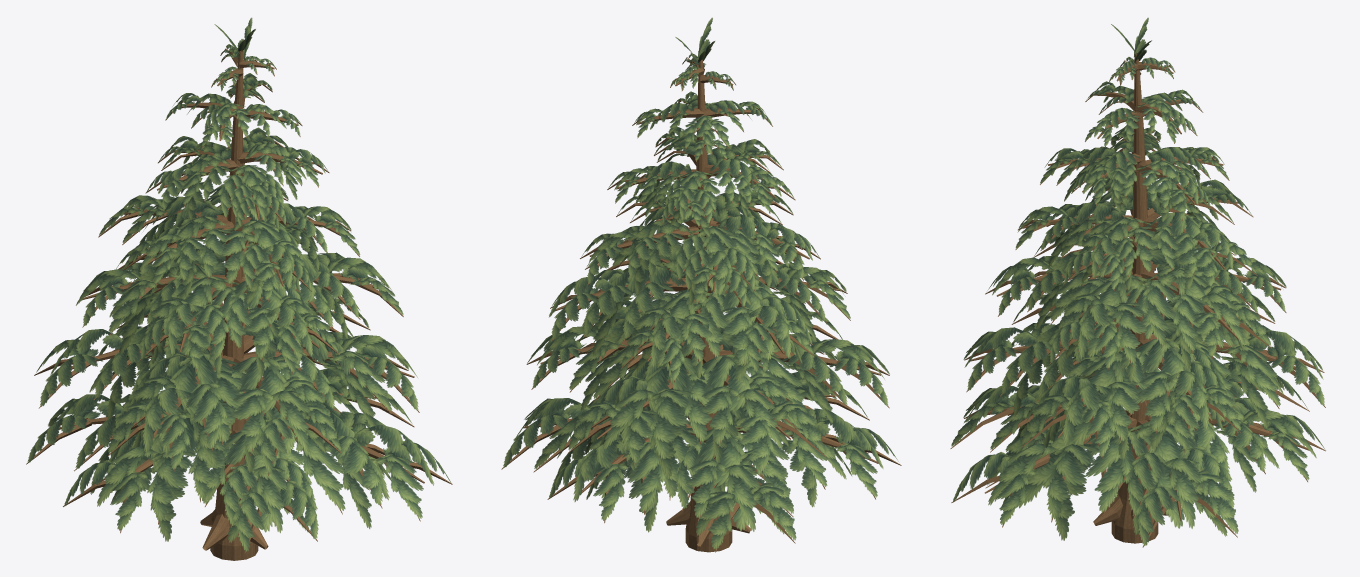
Rendered from fir_soft_v5-first.glb.
3 views of the same model, side by side, from view 1: azimuth 30°, elevation 25°; view 2: azimuth 150°, elevation 25°; view 3: azimuth 270°, elevation 25° (orthographic). The views are drawn at different scales.
Visible parts, largest first — view 1: fir_soft_v5; view 2: fir_soft_v5; view 3: fir_soft_v5.
Boxes of the visible parts, x1,y1,x2,y2 form: fir_soft_v5: (26,17,452,560); fir_soft_v5: (501,17,901,552); fir_soft_v5: (950,17,1325,547).
Size of the model in its own units: 4.24 by 5.61 by 4.
4 materials, 4 textured.
